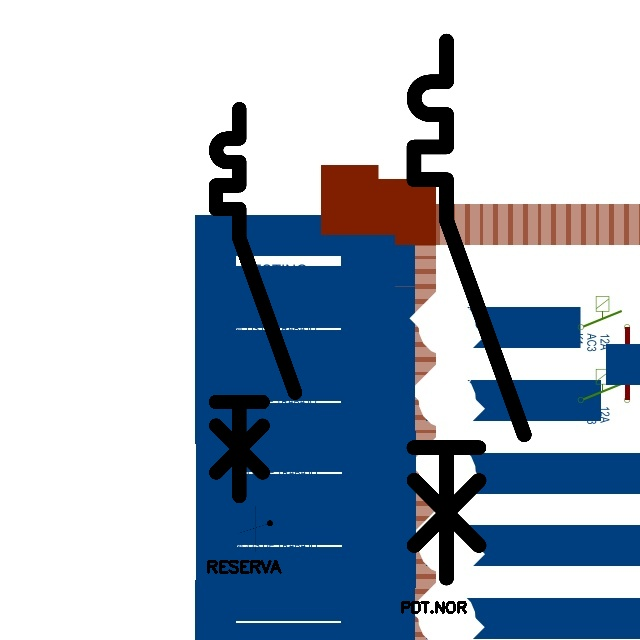interruptor_termomagnetico: (400, 27, 538, 592), (206, 99, 305, 506)
